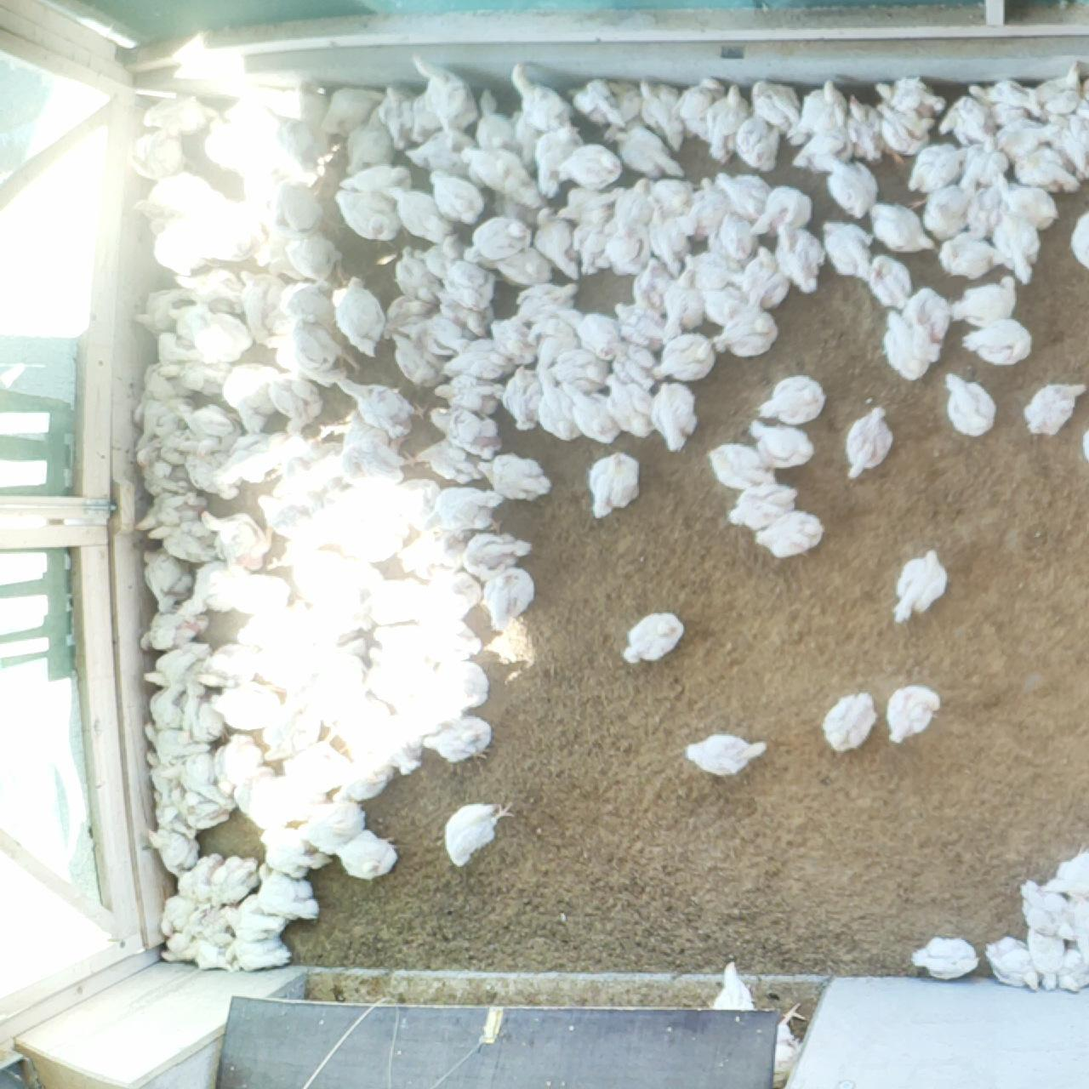chicken: (333, 372, 423, 442), (409, 52, 480, 135), (265, 325, 357, 389), (210, 427, 308, 487), (438, 797, 515, 871), (278, 79, 341, 168), (418, 704, 500, 771), (289, 552, 379, 613), (410, 485, 503, 544), (165, 306, 256, 365), (200, 506, 277, 575), (361, 690, 423, 773), (461, 144, 543, 206), (837, 90, 902, 167), (295, 793, 372, 858), (789, 100, 854, 176), (340, 412, 408, 484), (168, 399, 243, 462), (409, 650, 488, 709), (889, 548, 949, 625), (331, 275, 388, 356), (168, 264, 249, 321), (248, 860, 321, 923), (374, 614, 483, 656), (512, 63, 576, 134), (634, 75, 690, 156), (231, 99, 309, 157), (642, 194, 693, 280), (425, 405, 503, 461), (532, 118, 585, 200), (842, 402, 896, 482), (222, 359, 278, 436), (471, 452, 552, 505), (264, 234, 345, 287), (403, 128, 481, 183), (197, 202, 265, 265), (747, 507, 828, 559), (230, 760, 290, 830), (584, 449, 643, 520), (1018, 379, 1089, 438), (207, 569, 289, 620), (899, 284, 951, 364), (173, 748, 236, 814), (947, 272, 1021, 328), (142, 640, 212, 699), (683, 731, 767, 780), (727, 478, 803, 532), (783, 78, 846, 143), (993, 170, 1059, 232), (941, 366, 998, 437), (317, 83, 388, 140), (613, 125, 685, 181), (881, 680, 943, 745), (1016, 876, 1076, 943), (263, 696, 322, 764), (281, 735, 349, 794), (462, 526, 532, 583), (237, 267, 288, 345), (265, 372, 328, 435), (131, 361, 193, 425), (767, 1001, 812, 1089), (818, 690, 878, 756), (362, 649, 417, 721), (255, 825, 328, 879), (745, 415, 814, 472), (122, 122, 186, 183), (879, 305, 931, 380), (342, 104, 396, 176), (406, 434, 483, 484), (990, 211, 1042, 285), (334, 188, 401, 245), (258, 177, 325, 234), (706, 82, 752, 165), (134, 486, 207, 538), (128, 171, 220, 212), (912, 180, 970, 245), (137, 548, 195, 613), (756, 373, 828, 425), (937, 229, 1009, 281), (674, 76, 729, 144), (465, 212, 533, 267), (531, 204, 580, 280), (481, 564, 539, 628), (394, 526, 464, 579), (775, 221, 825, 295), (145, 210, 197, 281), (139, 602, 210, 654), (558, 307, 625, 362), (663, 264, 709, 344), (651, 379, 700, 454), (570, 201, 617, 279), (559, 382, 619, 443), (706, 438, 775, 491), (870, 200, 934, 257), (961, 318, 1035, 367), (437, 332, 514, 379), (874, 98, 935, 157), (389, 329, 448, 390), (623, 607, 685, 665), (821, 158, 878, 221), (200, 114, 257, 177), (749, 184, 813, 240), (871, 74, 947, 121), (327, 755, 397, 806), (602, 374, 656, 440), (912, 931, 980, 983), (177, 553, 234, 615), (1014, 142, 1078, 197), (267, 452, 318, 521), (209, 684, 282, 732), (377, 83, 424, 157), (981, 928, 1037, 990), (532, 371, 580, 443), (181, 449, 245, 503), (435, 287, 500, 340), (361, 577, 426, 630), (712, 308, 778, 360), (130, 439, 187, 499), (335, 827, 402, 878), (1021, 924, 1069, 995), (137, 717, 208, 765), (902, 142, 965, 196), (210, 732, 264, 795), (393, 470, 445, 535), (142, 522, 217, 567), (305, 437, 355, 504), (340, 691, 389, 759), (430, 374, 509, 416), (934, 90, 994, 145), (416, 569, 482, 619), (958, 133, 1012, 194), (512, 278, 583, 324), (567, 78, 628, 131), (207, 851, 266, 905), (557, 142, 622, 191), (135, 284, 196, 336), (823, 220, 874, 282), (156, 358, 231, 400), (181, 680, 228, 747), (144, 89, 217, 132), (255, 495, 314, 548), (129, 395, 181, 455), (317, 637, 369, 697), (222, 894, 287, 942), (276, 280, 342, 327), (995, 115, 1058, 164), (732, 110, 781, 173), (426, 166, 481, 222), (712, 169, 770, 222), (968, 77, 1042, 118), (479, 248, 553, 289), (705, 959, 760, 1014), (198, 640, 261, 688), (655, 332, 717, 380), (227, 932, 296, 975), (707, 212, 757, 271), (603, 221, 653, 280), (605, 79, 649, 146), (335, 161, 412, 199), (557, 181, 625, 224), (1036, 849, 1089, 904), (147, 824, 199, 880), (749, 78, 796, 139), (682, 249, 747, 293), (625, 256, 671, 318), (439, 260, 496, 310), (533, 308, 577, 372), (610, 175, 654, 239), (168, 788, 233, 831), (399, 316, 467, 357), (486, 318, 538, 371), (607, 338, 658, 392), (966, 173, 1007, 240), (746, 245, 788, 310), (1037, 61, 1086, 116), (486, 187, 550, 229), (548, 348, 609, 392), (687, 176, 727, 243), (409, 231, 465, 278), (867, 253, 913, 310), (393, 246, 438, 304), (337, 523, 399, 565), (612, 300, 663, 351), (174, 850, 222, 904), (499, 367, 540, 430), (149, 426, 209, 469), (148, 788, 196, 841), (404, 85, 443, 150), (474, 89, 516, 149), (380, 291, 433, 337), (695, 285, 750, 329), (647, 174, 695, 223), (189, 930, 242, 973), (148, 331, 208, 368), (143, 748, 181, 804), (1059, 113, 1089, 180), (145, 683, 185, 733), (158, 888, 199, 936), (155, 927, 205, 966), (1058, 934, 1089, 995), (1064, 896, 1089, 971), (184, 899, 232, 938), (989, 97, 1033, 130), (1070, 212, 1089, 271)
